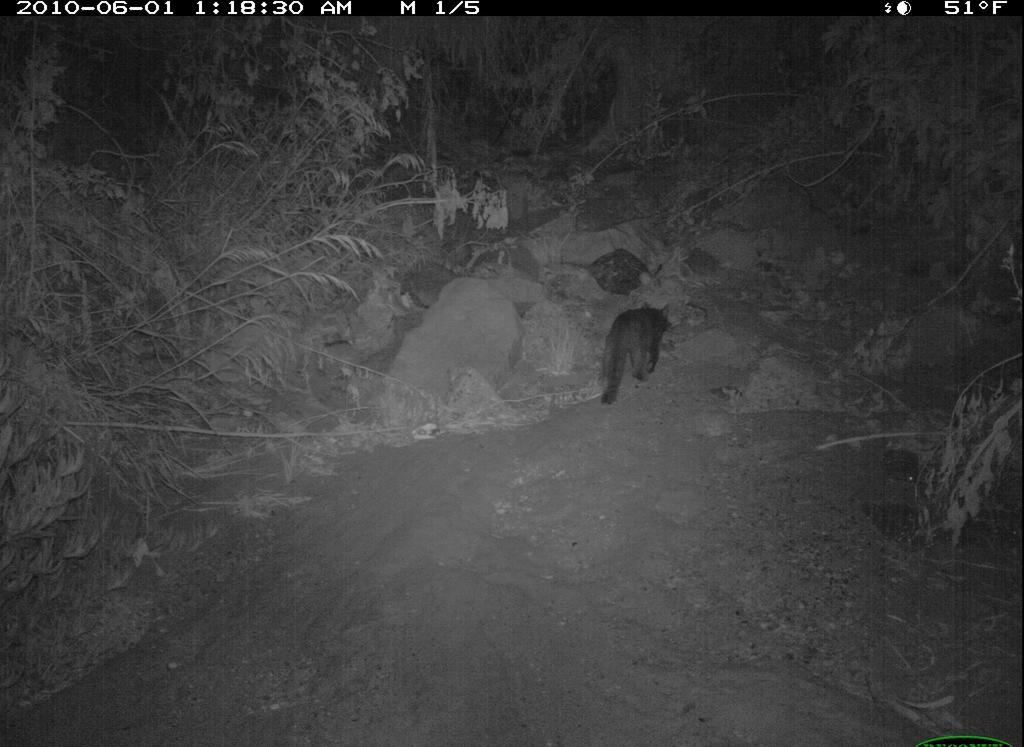cat: (584, 290, 686, 417)
